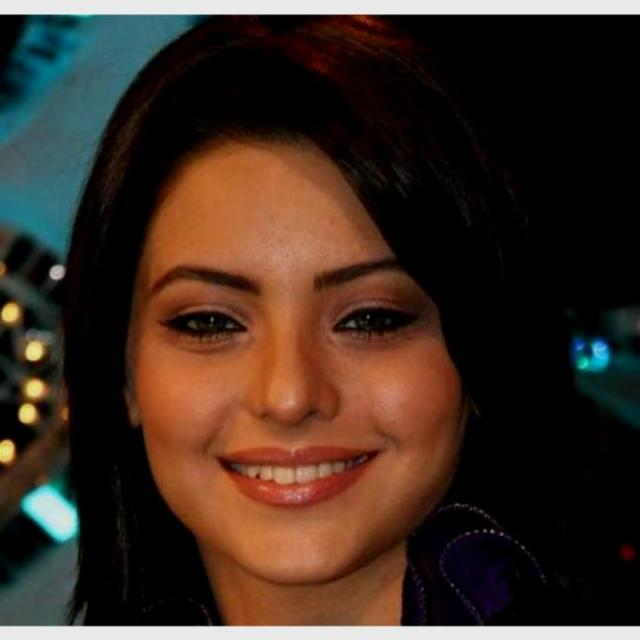live: (109, 138, 479, 592)
